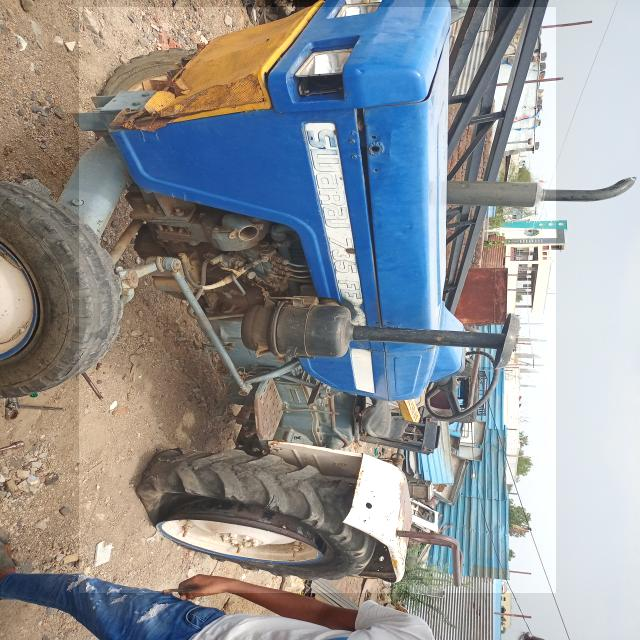Tractot: (79, 7, 556, 593)
